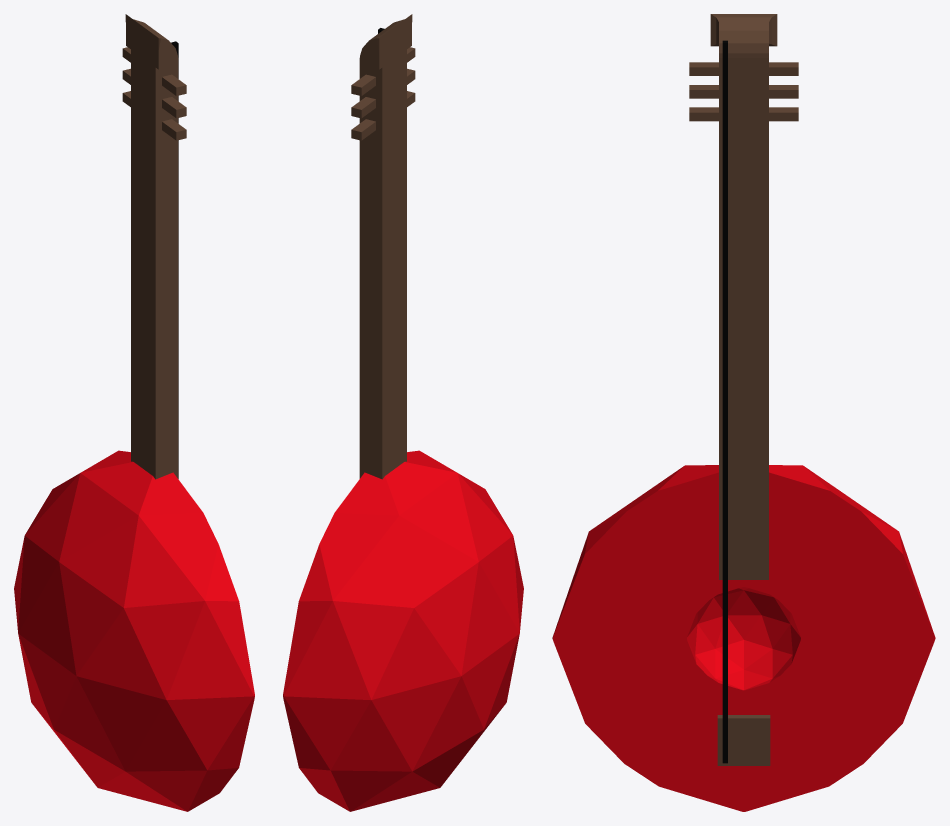
Rendered from gitara.glb.
The picture shows the model from 3 angles, left to right: view 1: azimuth 30°, elevation 25°; view 2: azimuth 150°, elevation 25°; view 3: azimuth 270°, elevation 25°; orthographic projection.
Parts seen in each view (by area): view 1: Icosphere, Cube, Cube.002; view 2: Icosphere, Cube, Cube.002; view 3: Icosphere, Cube, Cube.003, Cube.002, Cube.001.
Boxes of the visible parts, x1,y1,x2,y2 form: Icosphere: [14, 450, 254, 811]; Cube: [125, 14, 178, 479]; Cube.002: [122, 47, 186, 140]; Icosphere: [283, 450, 523, 811]; Cube: [359, 14, 412, 479]; Cube.002: [351, 47, 415, 140]; Icosphere: [552, 465, 935, 811]; Cube: [710, 14, 777, 579]; Cube.003: [722, 40, 727, 763]; Cube.002: [689, 62, 798, 121]; Cube.001: [717, 715, 770, 765].
Bounding box in the file's own units: 0.7392 × 4.54 × 2.
